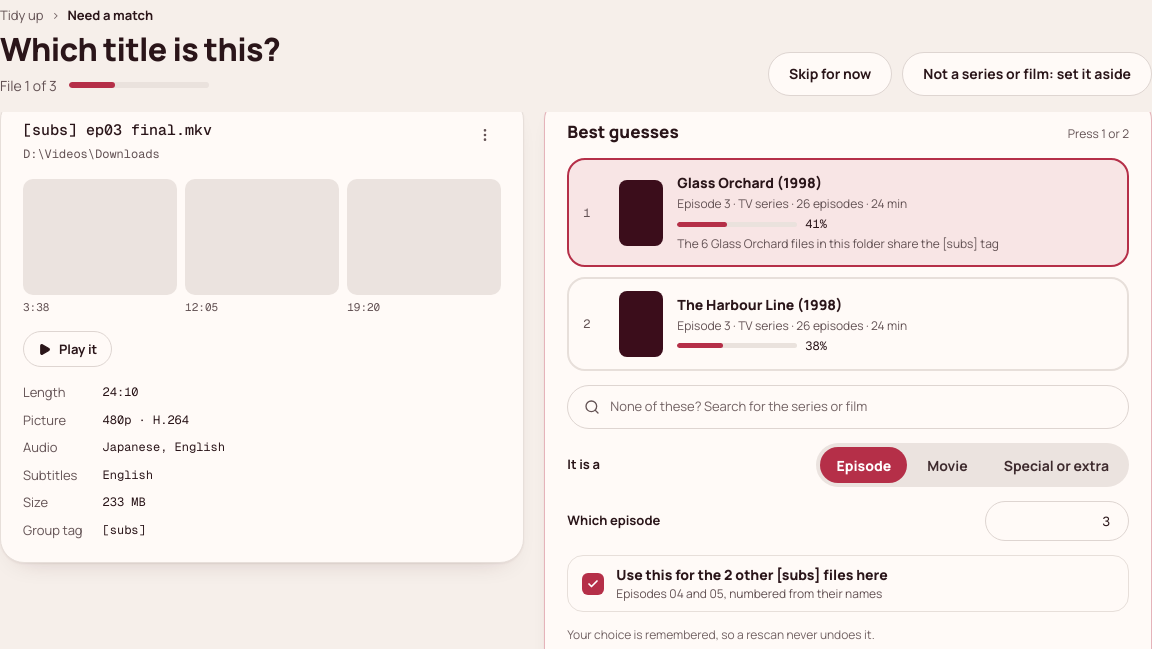
Test: MatchPage › searches when none of the guesses is right
Type "Glass Orchard Returns" into the search field named "Search for the right series or film" at (861, 407), box [610,397,1112,417]
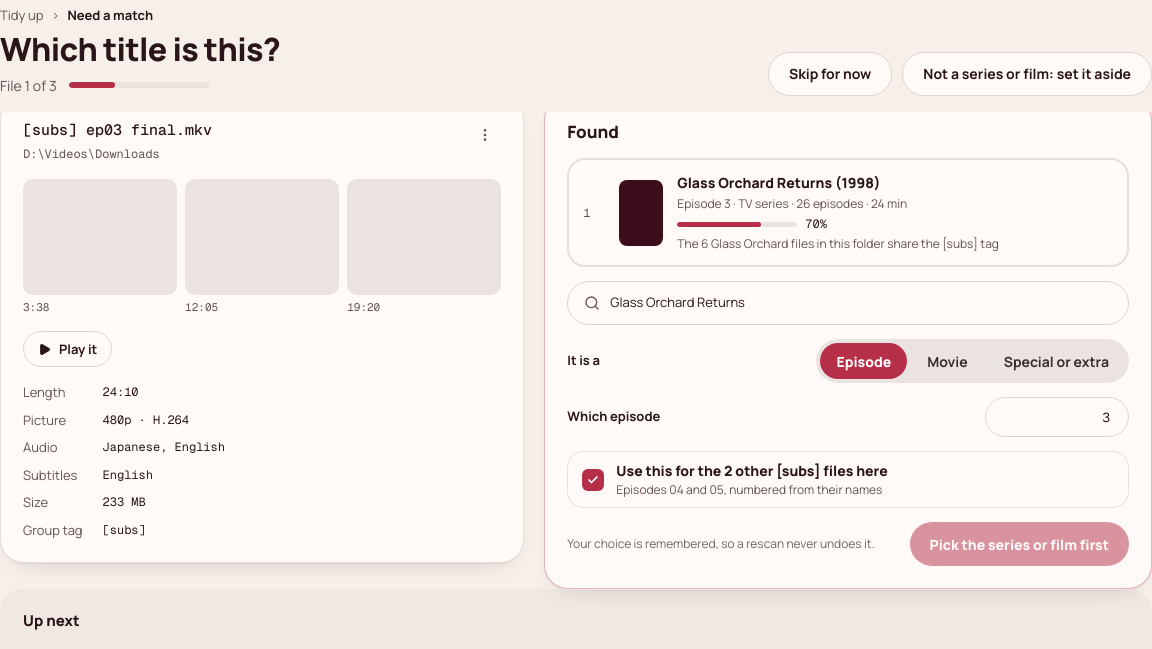
Now the radio button labelled "Glass Orchard Returns" is shown, box [567,158,1129,267]
Now the heading "Found" is shown, box [567,119,619,144]
